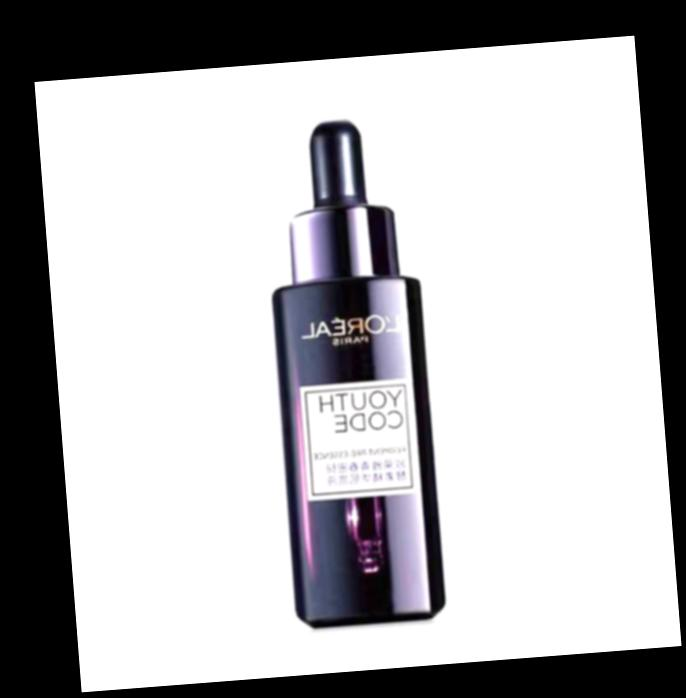cosmetic: (261, 114, 444, 628)
